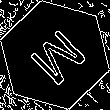M_SE: (20, 21, 90, 89)
